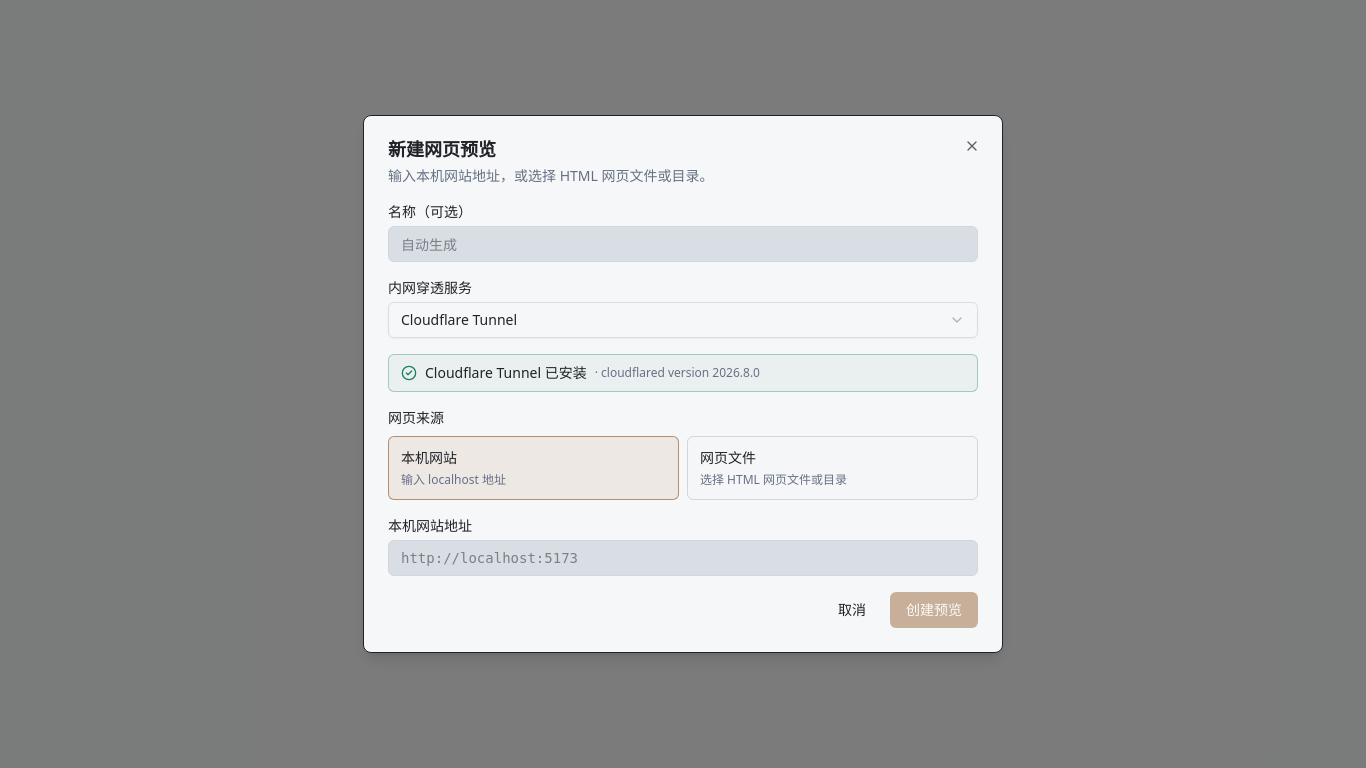
Test: CreateWebPreviewDialog › rejects non-loopback and HTTPS addresses before sending a create request
Type "https://example.com" into the field labelled "本机网站地址" at (683, 558), box [388,540,978,576]
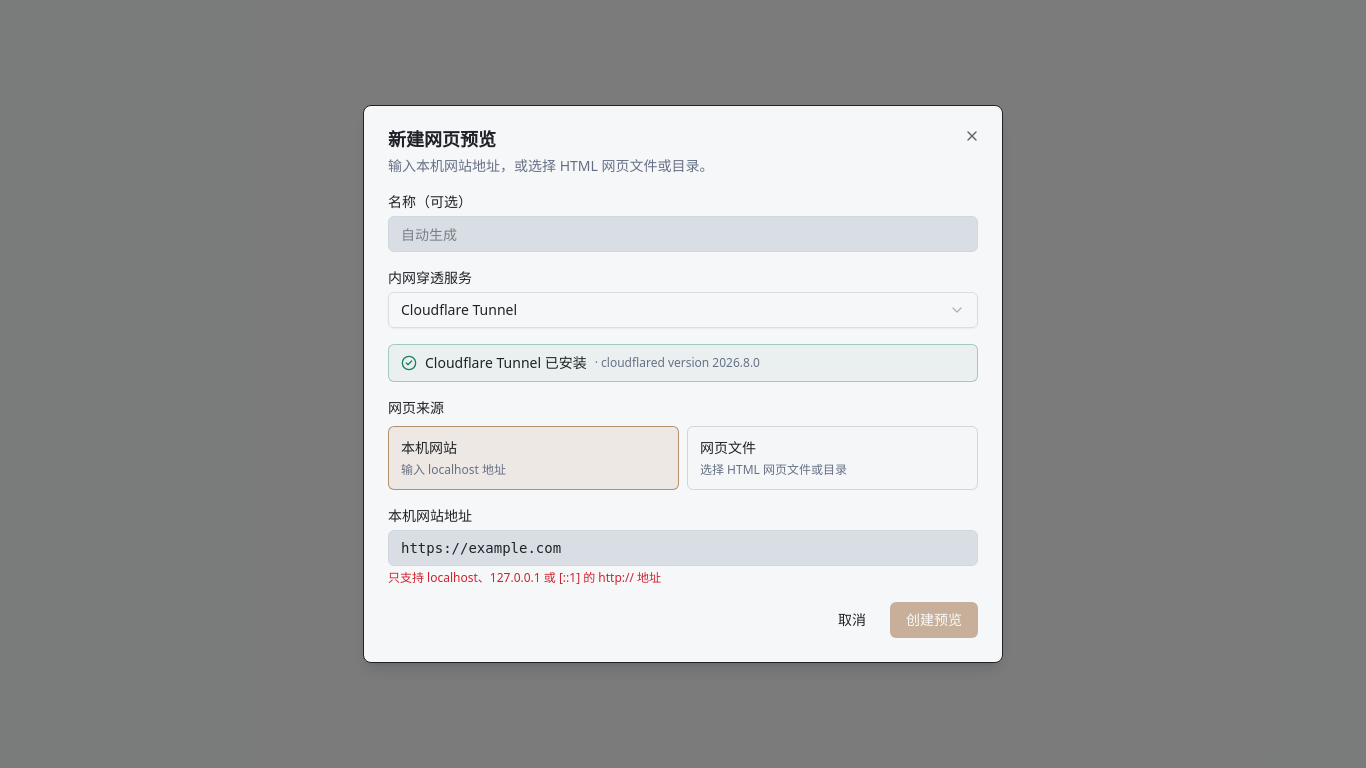
Now the message "只支持 localhost、127.0.0.1 或 [::1] 的 http:// 地址" is shown, box [388,569,661,586]
